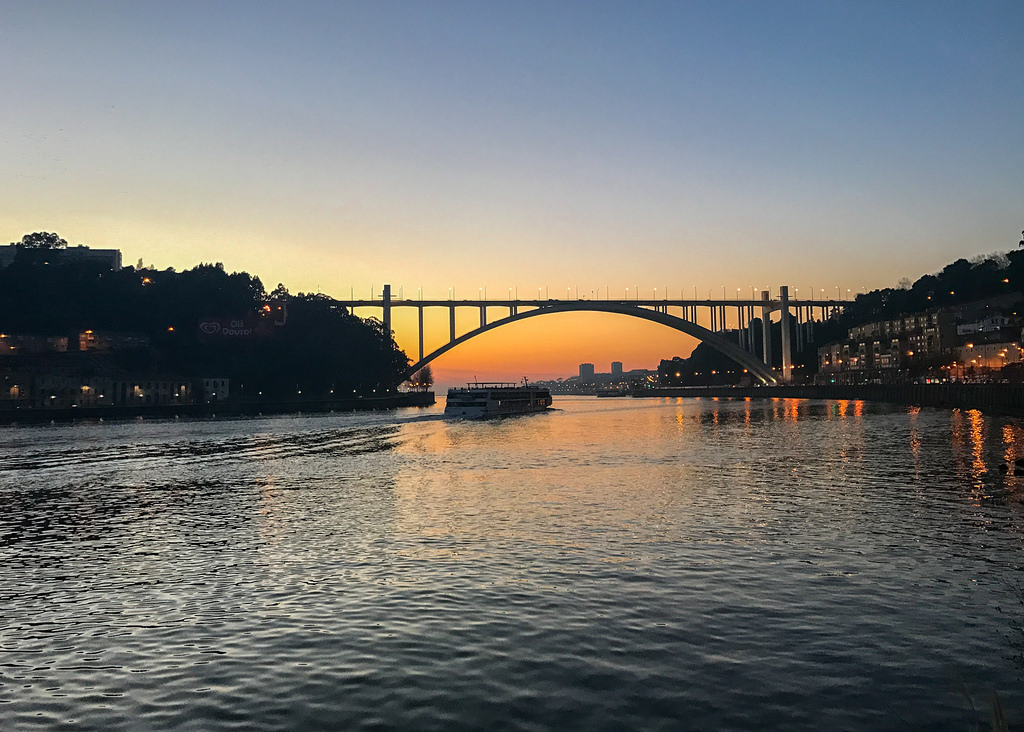arrabida: (340, 283, 858, 388)
